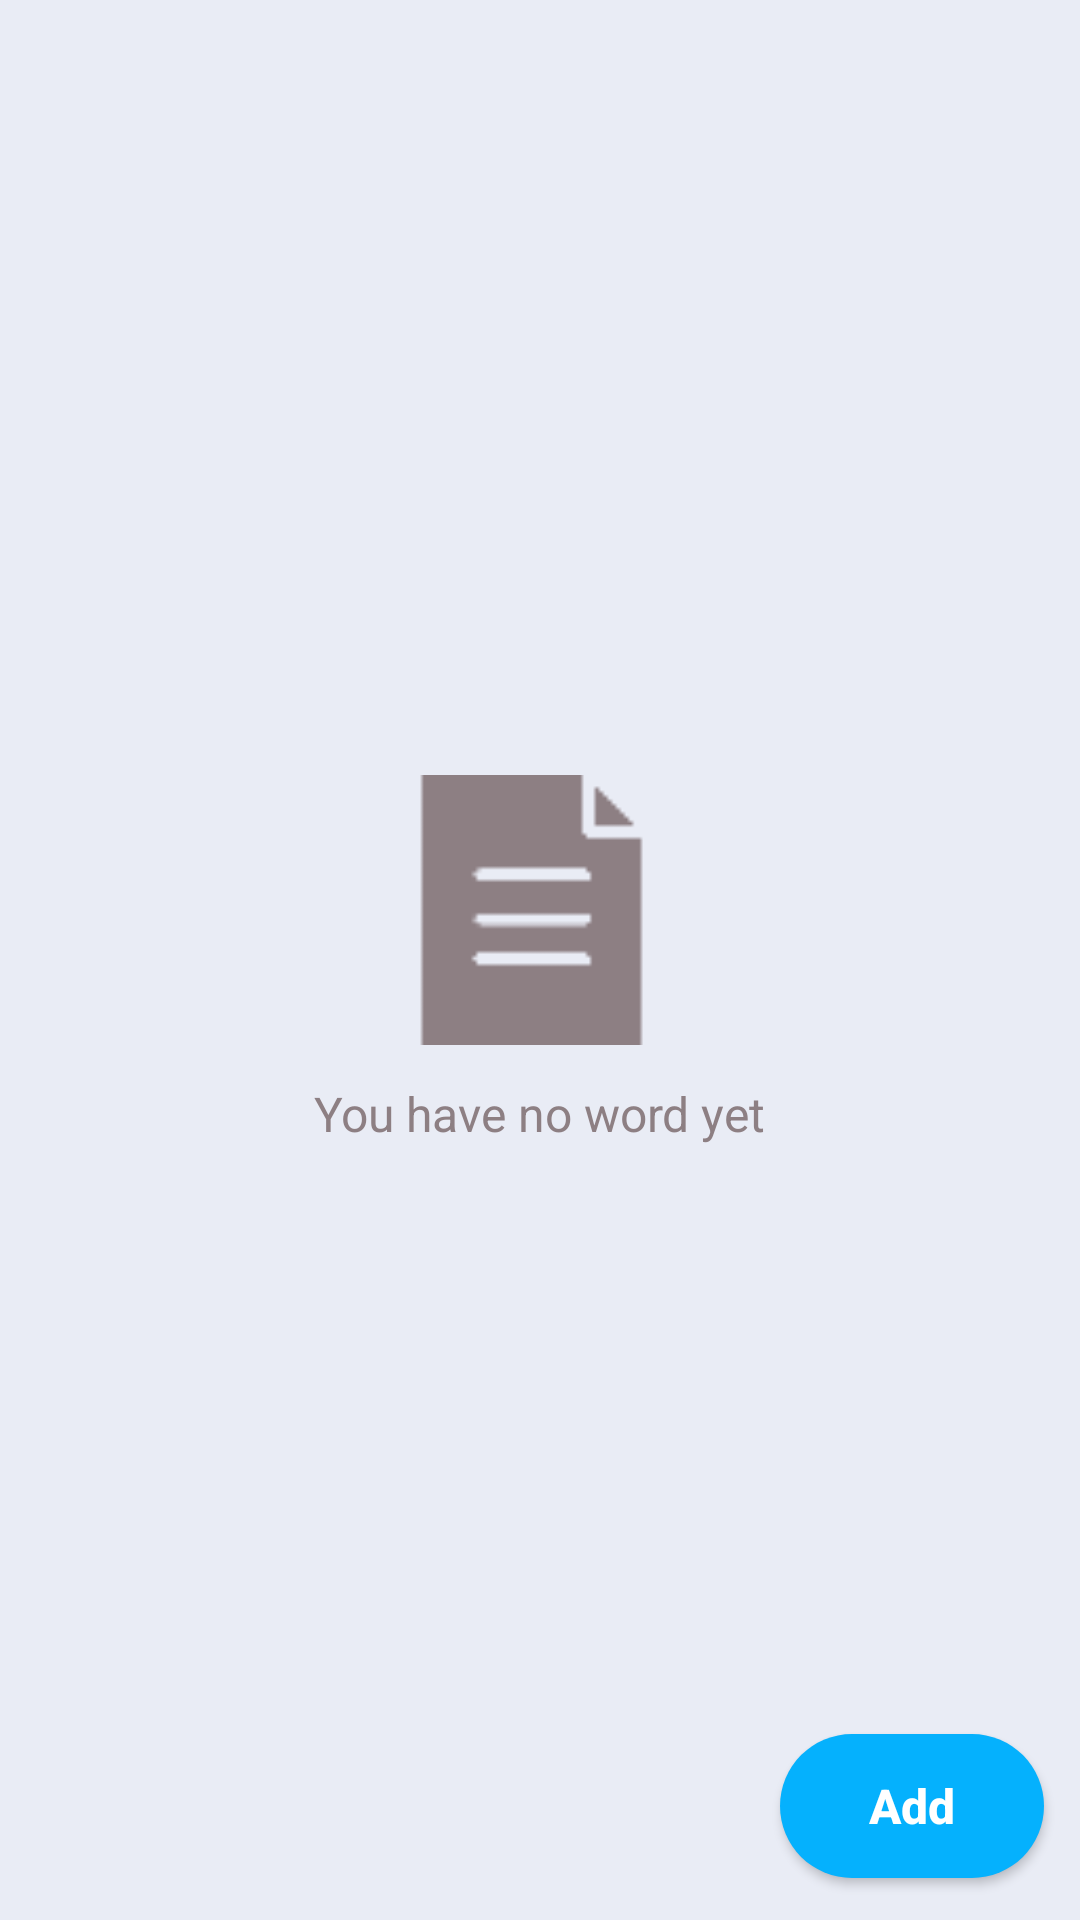

Locate icon controls on the screen. Image size 1080 x 1920, boxes as detection(x1, y1, x2, y2).
Empty file icon: detection(421, 775, 642, 1045)
